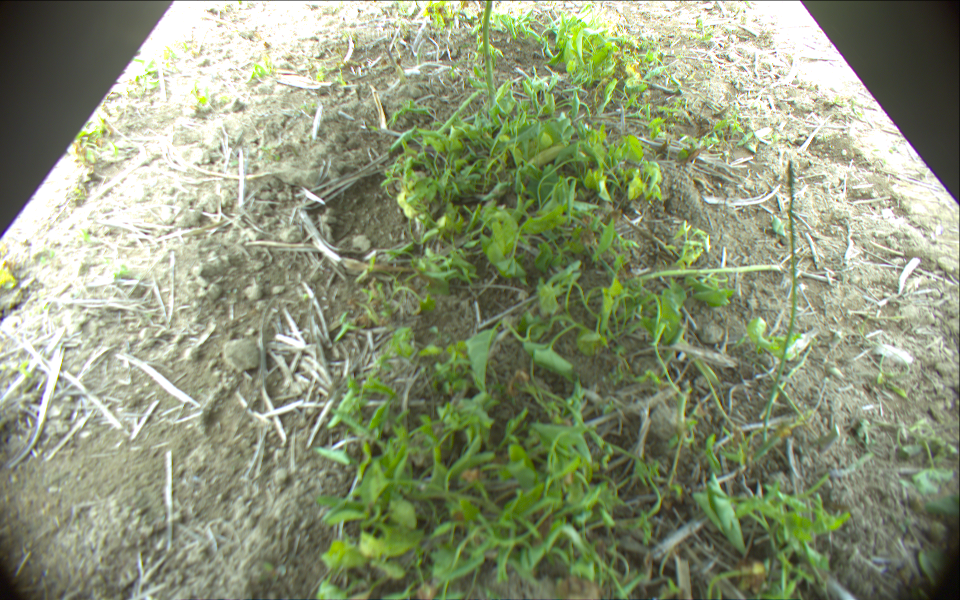aspa: (764, 159, 797, 417), (626, 264, 787, 285), (481, 1, 499, 113)
